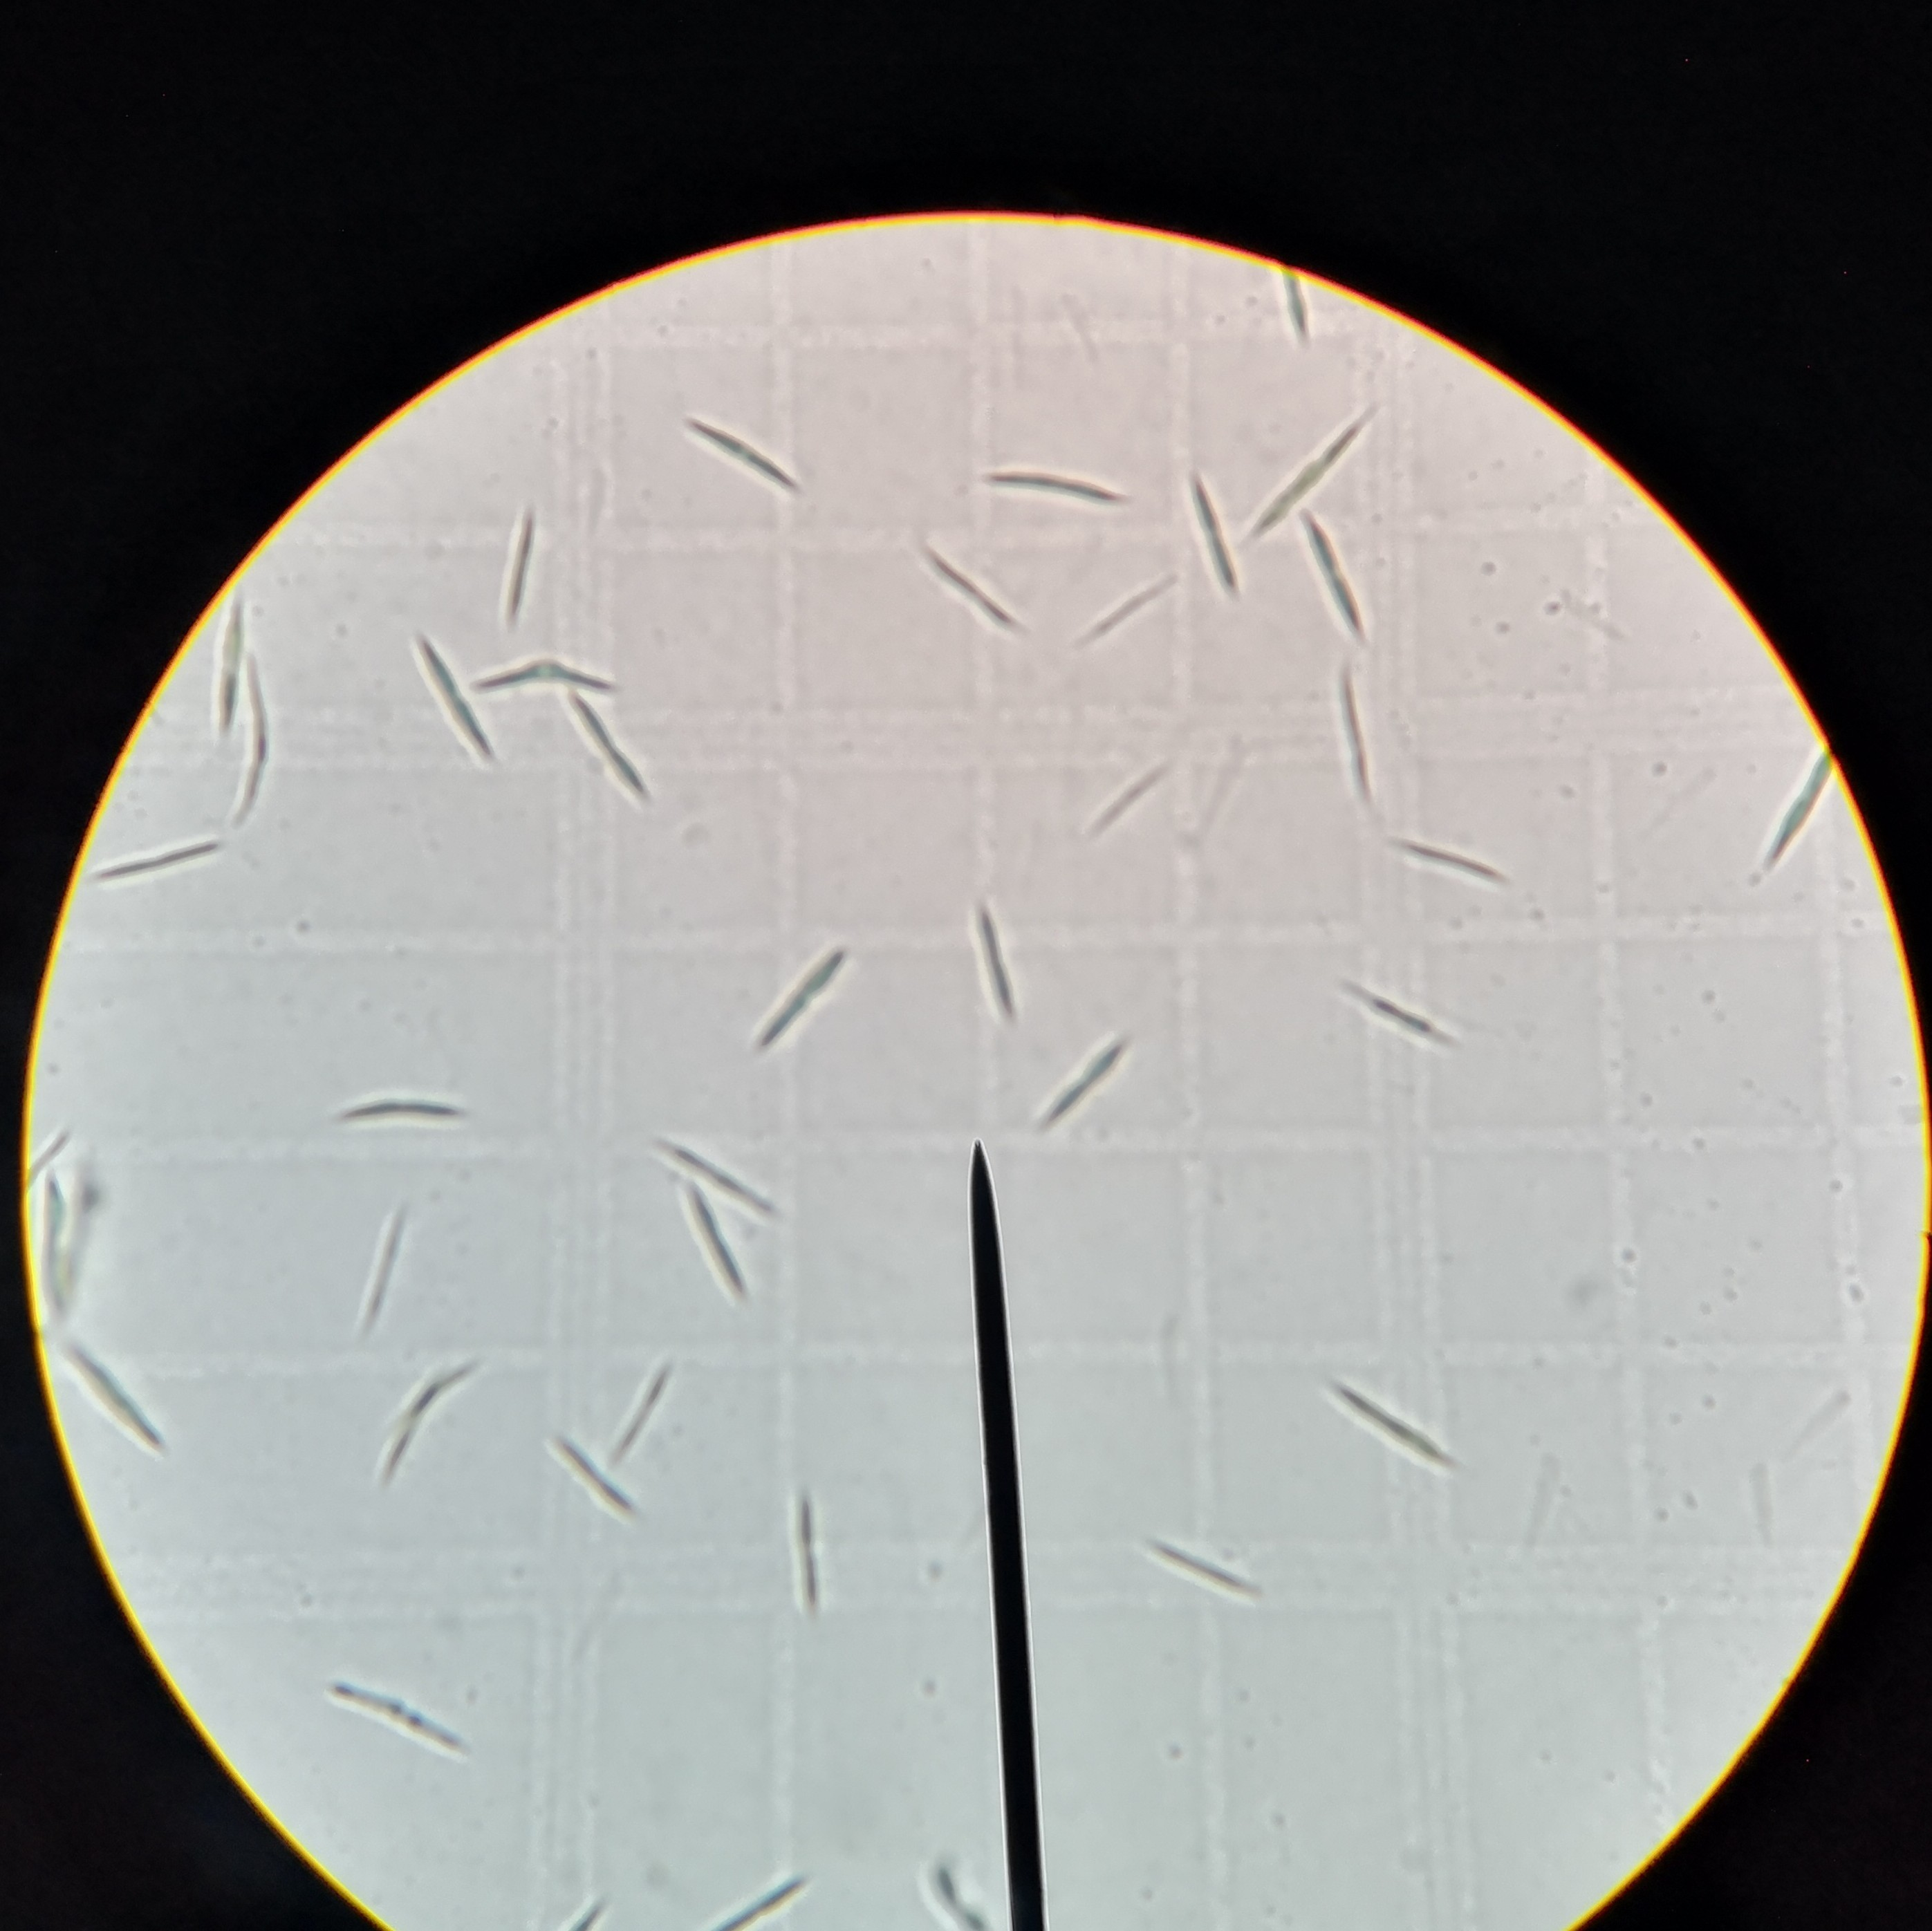Microalgae: (1237, 408, 1380, 538), (313, 1673, 481, 1763), (1329, 1390, 1458, 1484), (51, 1323, 154, 1439), (384, 1362, 474, 1487), (968, 446, 1127, 516), (752, 943, 844, 1065), (403, 638, 490, 767), (679, 421, 810, 504), (556, 688, 653, 798), (1028, 1036, 1132, 1137), (916, 548, 1028, 635), (646, 1141, 782, 1211), (1753, 741, 1822, 870), (464, 653, 642, 702), (234, 640, 281, 824), (545, 1439, 642, 1528), (1336, 978, 1463, 1045), (85, 842, 223, 904), (768, 1487, 833, 1614), (1384, 831, 1504, 900), (1329, 656, 1384, 798), (200, 592, 251, 736), (1141, 1537, 1260, 1595), (612, 1370, 669, 1471), (1081, 578, 1182, 635), (711, 1869, 803, 1927), (1097, 767, 1178, 833), (361, 1204, 402, 1335), (978, 900, 1019, 1029), (497, 499, 534, 635), (318, 1096, 487, 1126), (686, 1199, 736, 1293), (1277, 260, 1318, 363)
